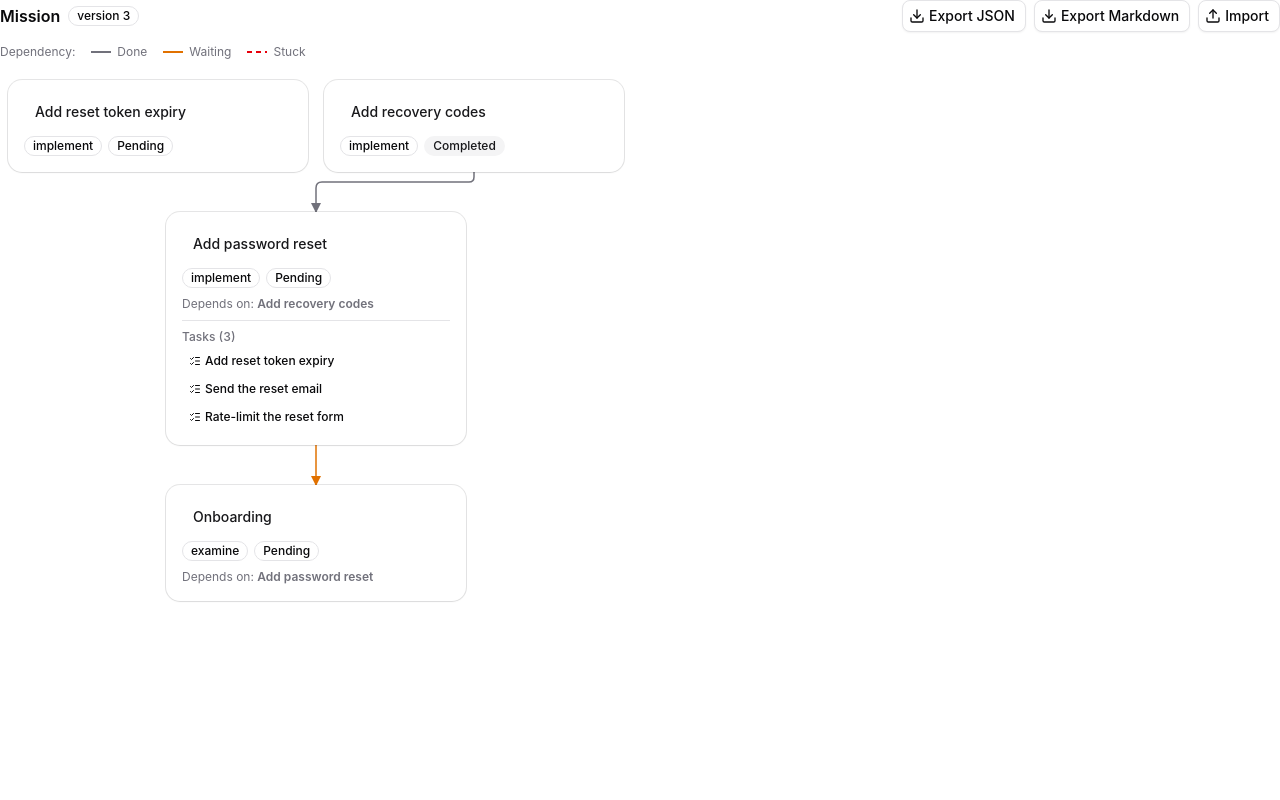
Test: MissionPanel › opens the node sheet of its node from a task row
What coordinates should you click on to do the following:
click the button "Send the reset email"
I would click on:
 (256, 389)
Its box is [182,377,331,401].
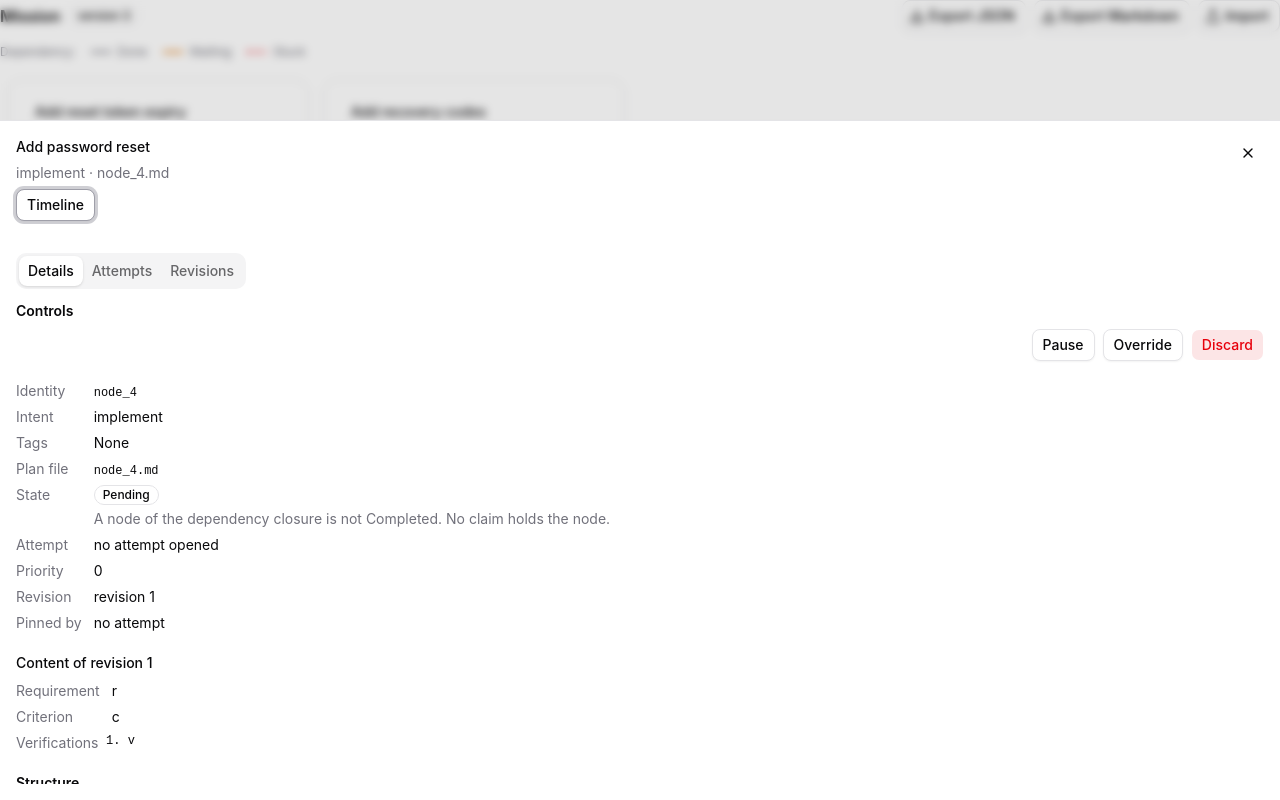
Check: the text "implement · node_4.md" is shown, box [16,164,169,181]
